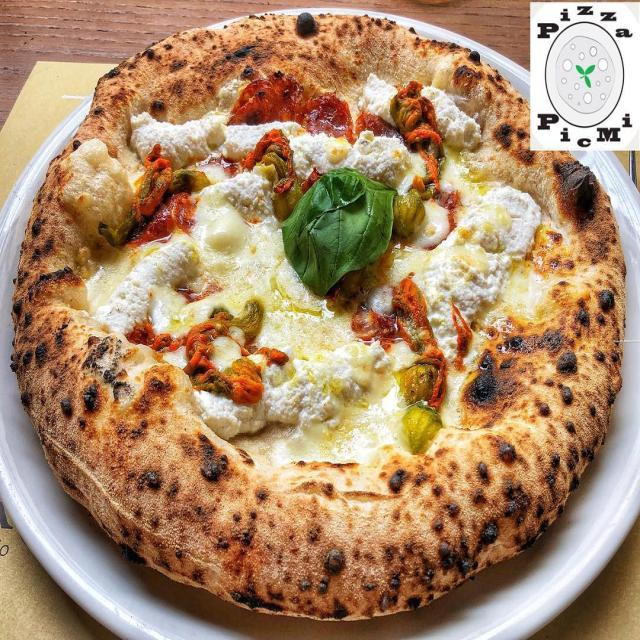basil: (281, 161, 398, 300)
pizza: (9, 9, 628, 624)
